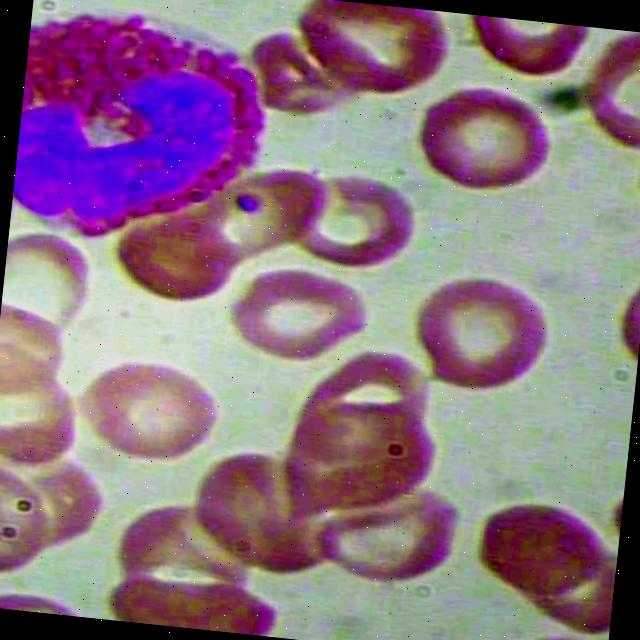RBC: (404, 265, 562, 411), (68, 341, 232, 474), (403, 76, 562, 204), (220, 259, 386, 373), (271, 168, 431, 284), (460, 491, 620, 606), (279, 0, 454, 105), (106, 208, 248, 312), (96, 564, 284, 638), (0, 460, 63, 587)
WBC: (7, 0, 286, 258)
